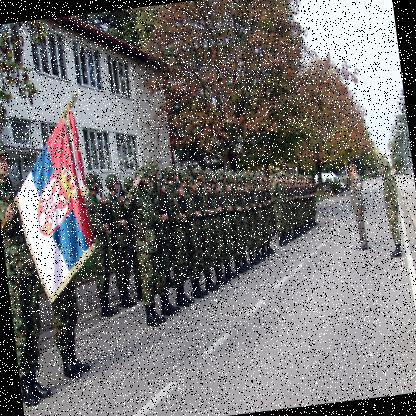rs: (8, 115, 103, 307)
